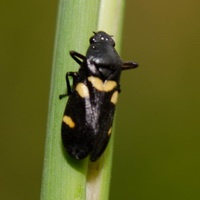insect: (59, 31, 137, 160)
